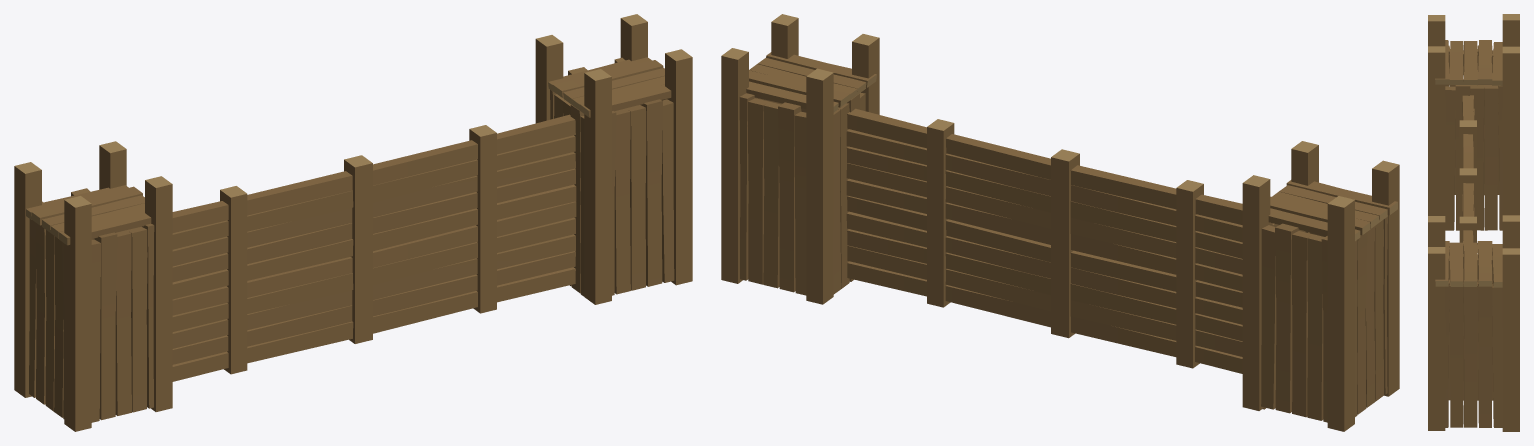
The model's file is WallTowers_FirstAge.glb.
The picture shows the model from 3 angles, left to right: view 1: azimuth 30°, elevation 25°; view 2: azimuth 150°, elevation 25°; view 3: azimuth 270°, elevation 25°; orthographic projection. The views are drawn at different scales.
Parts seen in each view (by area): view 1: WallTowers_FirstAge; view 2: WallTowers_FirstAge; view 3: WallTowers_FirstAge.
Boxes of the visible parts, x1=… form: WallTowers_FirstAge: x1=14, y1=14, x2=692, y2=431; WallTowers_FirstAge: x1=721, y1=14, x2=1399, y2=431; WallTowers_FirstAge: x1=1428, y1=14, x2=1519, y2=431.
Bounding box in the file's own units: 1.94 × 0.6724 × 0.3134.
